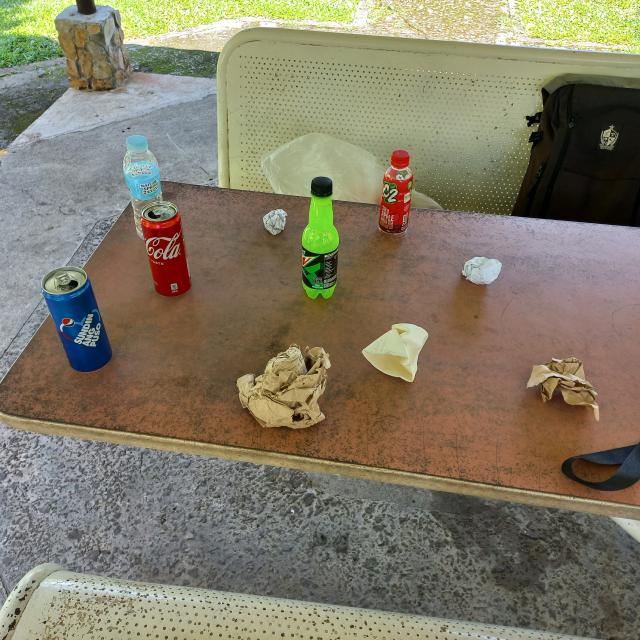Anorganik: (37, 262, 117, 377), (135, 195, 197, 305), (296, 171, 346, 304), (120, 130, 167, 245), (374, 145, 418, 241)
Organik: (229, 338, 336, 440), (518, 352, 608, 428), (353, 317, 435, 388), (458, 249, 506, 293), (258, 205, 292, 240)
